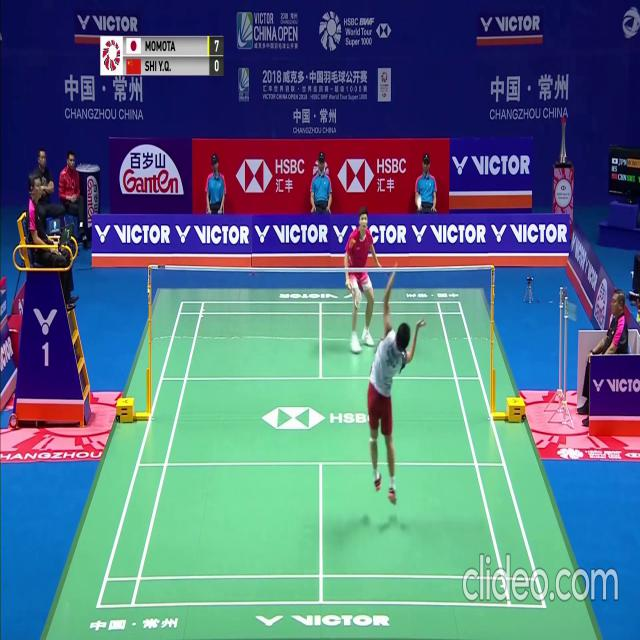Shuttlecock: (416, 199, 421, 206)
